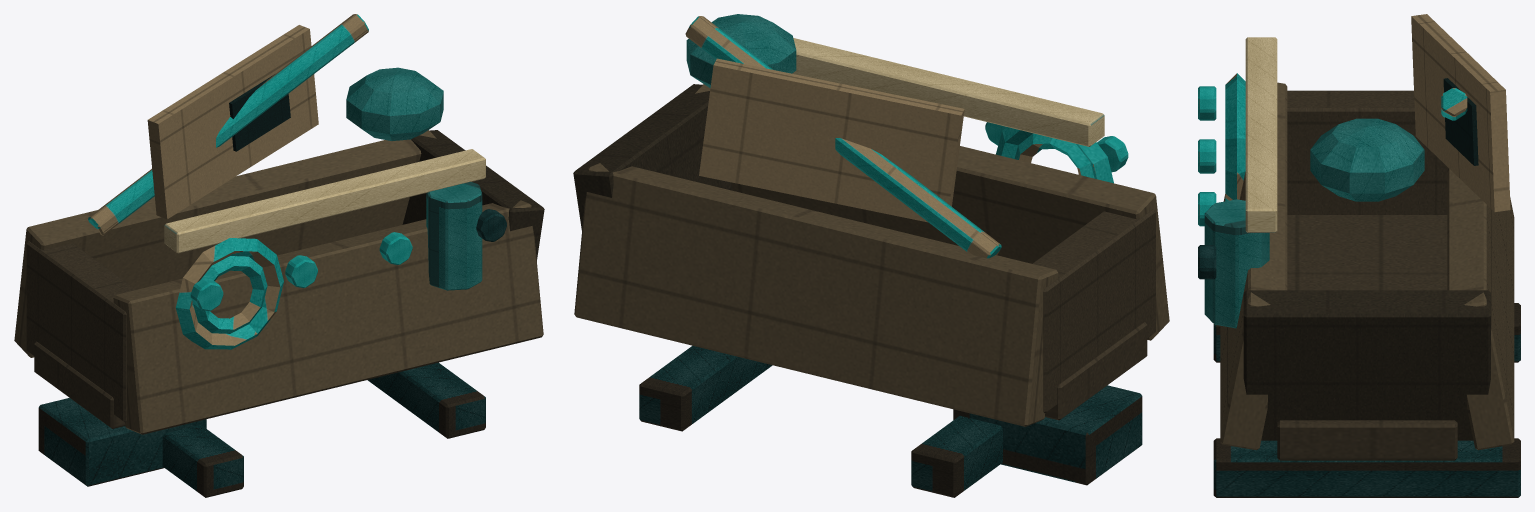
The model's file is covered_wagon.e6.glb.
3 views of the same model, side by side, from view 1: azimuth 30°, elevation 25°; view 2: azimuth 150°, elevation 25°; view 3: azimuth 270°, elevation 25° (orthographic). The views are drawn at different scales.
Visible parts, largest first — view 1: AtomicArrivalSkiffE6; view 2: AtomicArrivalSkiffE6; view 3: AtomicArrivalSkiffE6.
Part boxes in pixels (x1,y1,x2,y2): AtomicArrivalSkiffE6: (14,14,544,497); AtomicArrivalSkiffE6: (573,14,1169,497); AtomicArrivalSkiffE6: (1198,14,1520,497).
Size of the model in its own units: 1.7 by 1.31 by 0.9672.
1 material, 1 textured.
